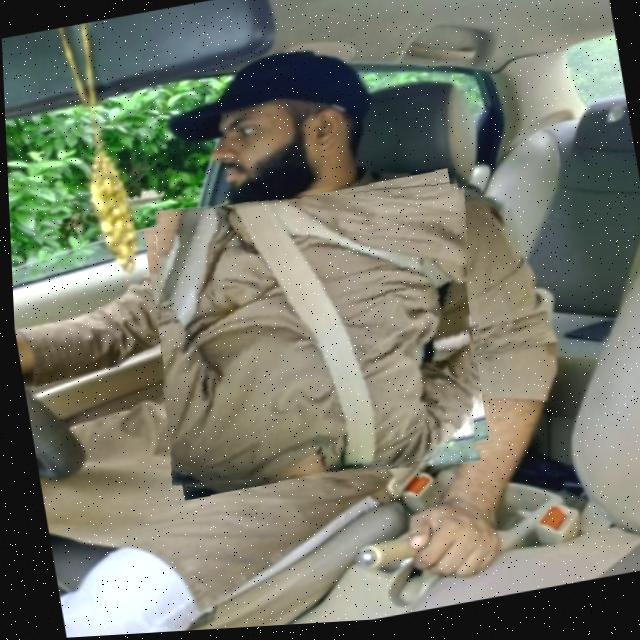seatbelt: (129, 167, 498, 510)
